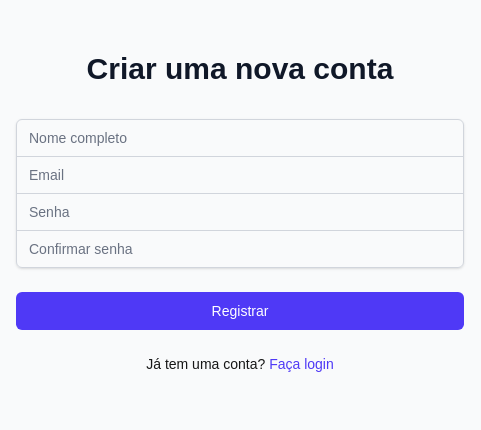
it: Register › should show error message on wrong email
Type "Teste" into the field labelled "Nome completo" at (240, 138), box [16,118,464,156]
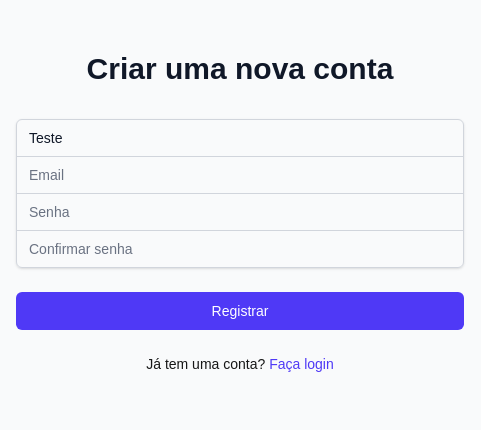
Type "emailerrado" into the field labelled "Email" at (240, 174), box [16,156,464,194]
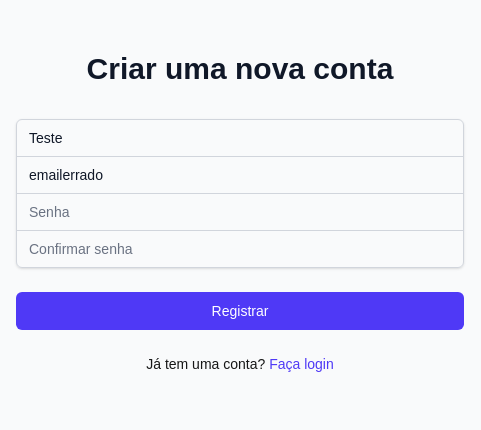
Type "senha123" into the password field labelled "Senha" at (240, 212), box [16,192,464,230]
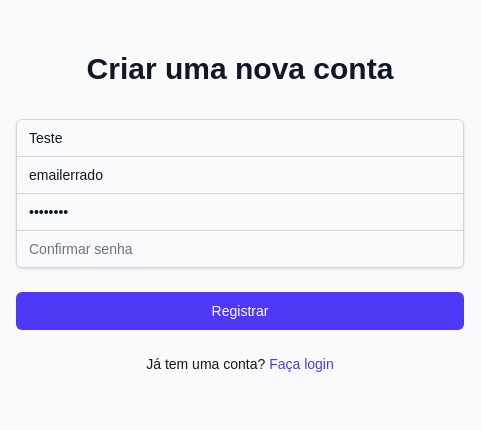
Type "senha123" into the password field labelled "Confirmar senha" at (240, 248), box [16,230,464,268]
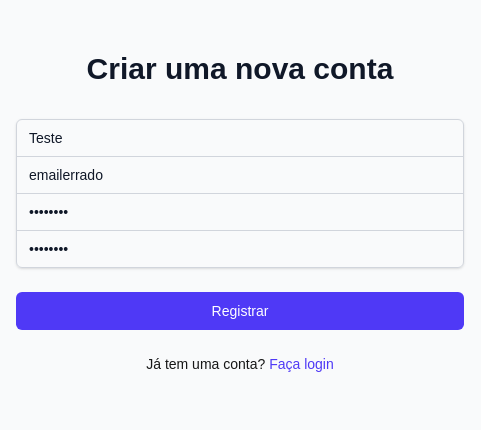
Click the button "Registrar" at (240, 310), box [16,292,464,330]
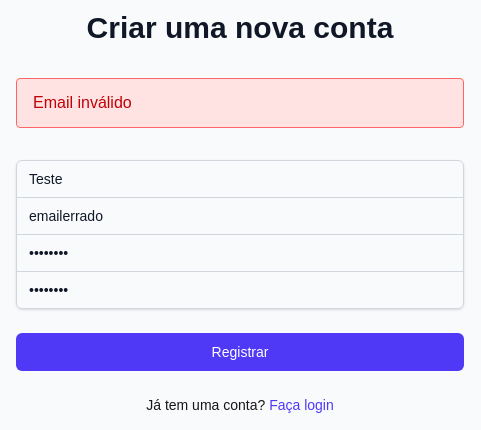
Check: the text "Email inválido" is shown, box [33,94,132,110]
